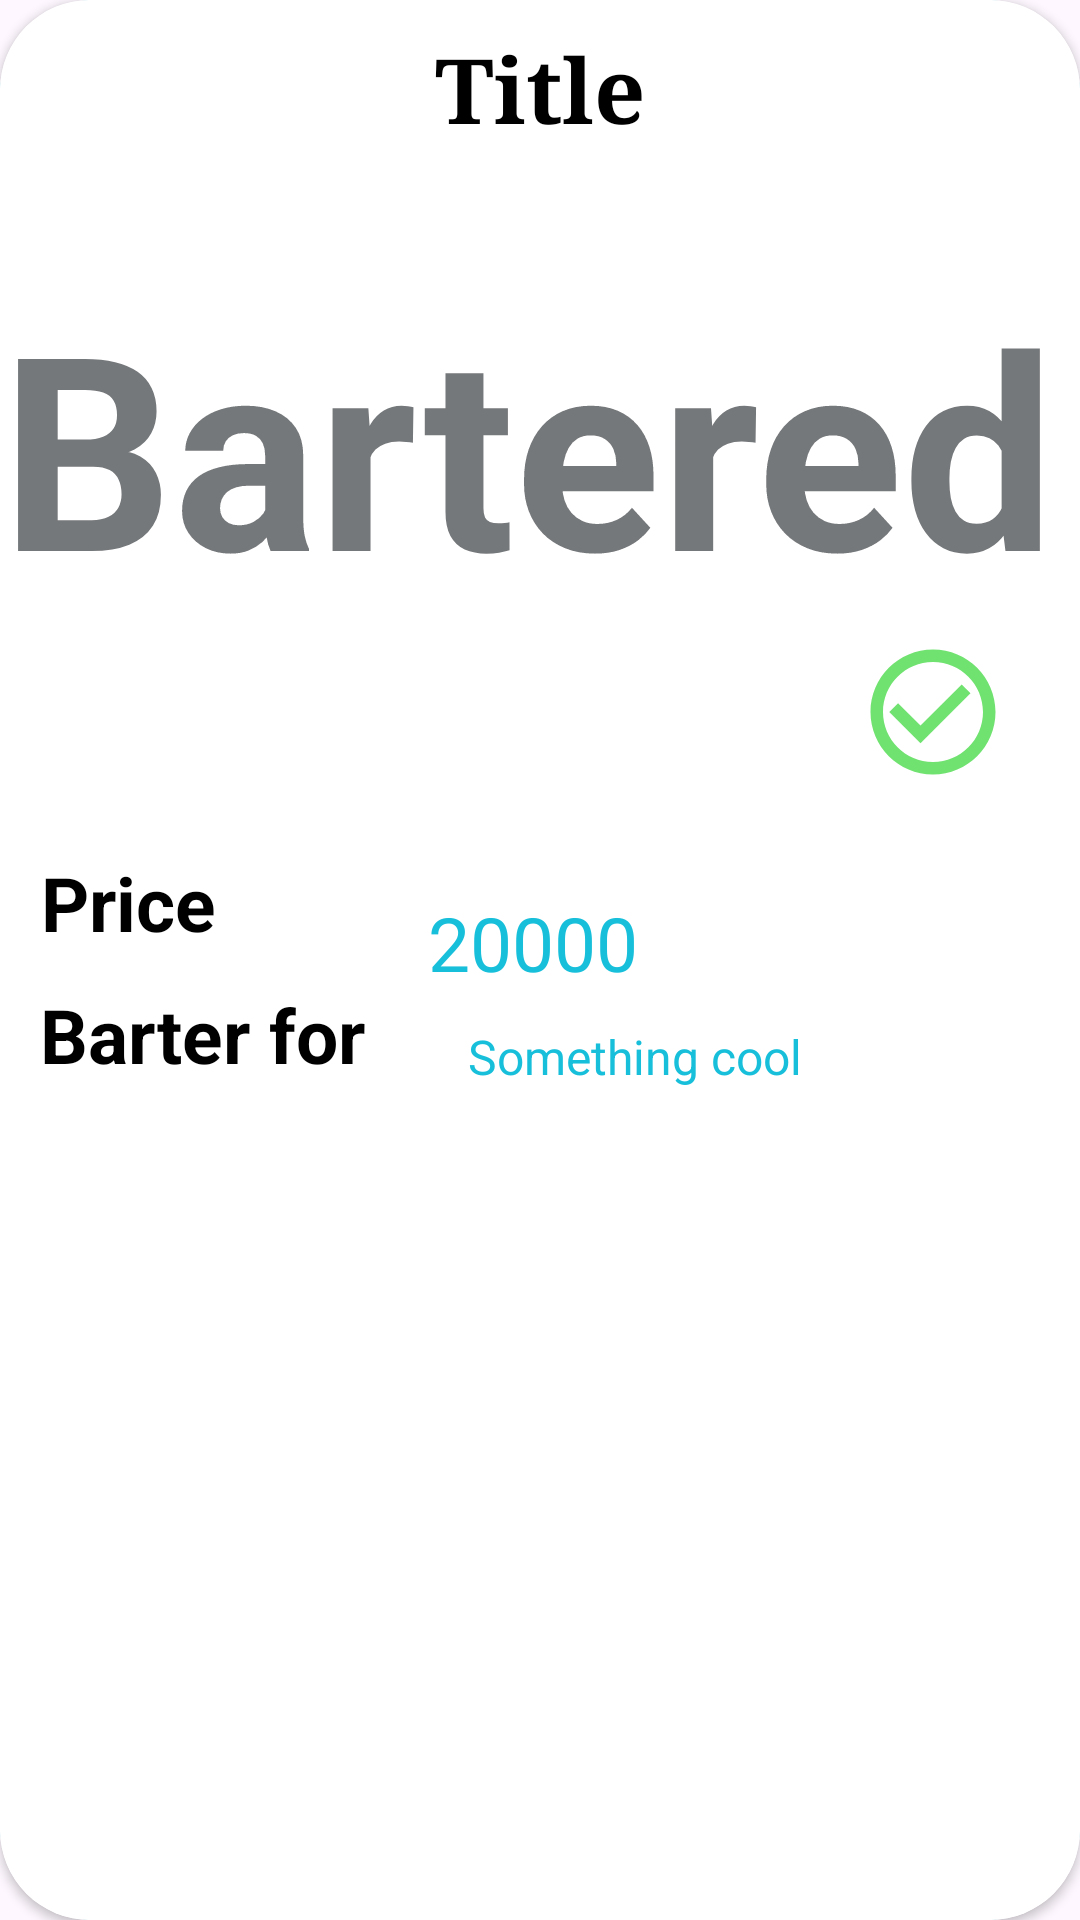

Screen size 1080x1920. Icon name, then its center in pixels as (x=x, y=y):
check circle: (x=933, y=712)
